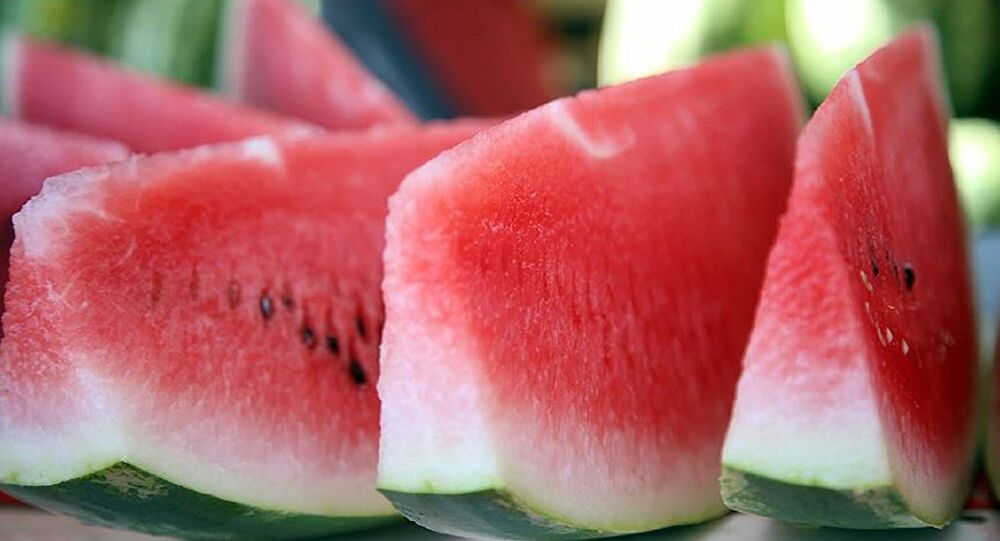Watermelon: (721, 16, 991, 541)
